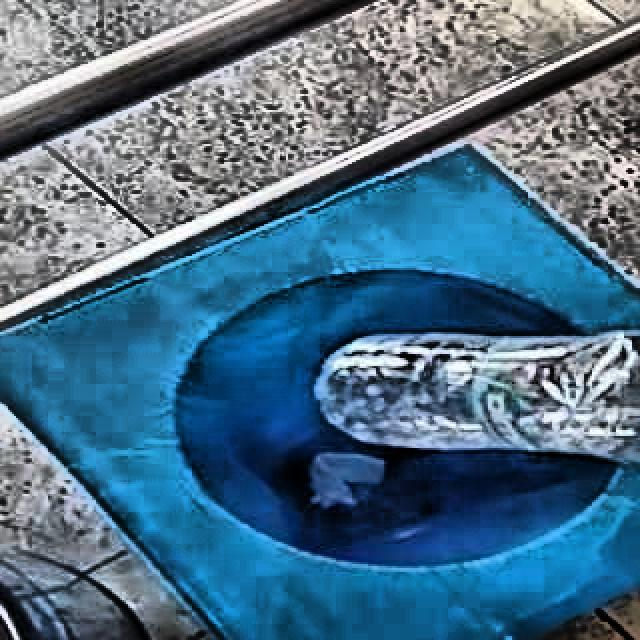plastic: (320, 334, 640, 465)
